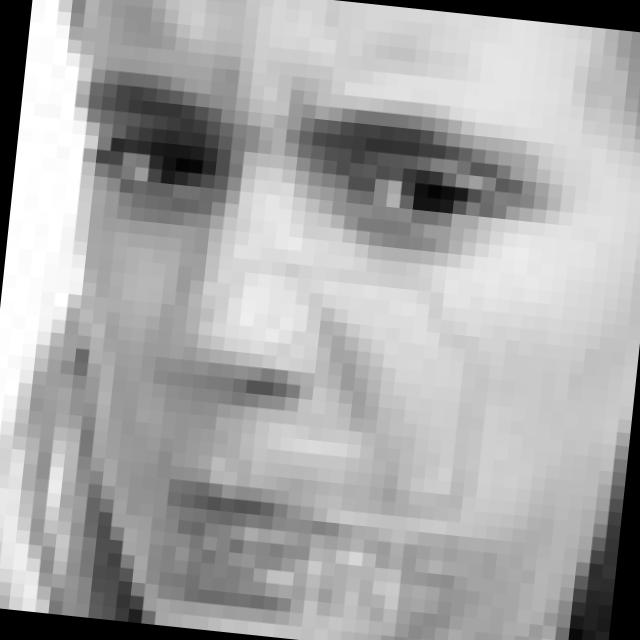disgust: (28, 59, 558, 640)
